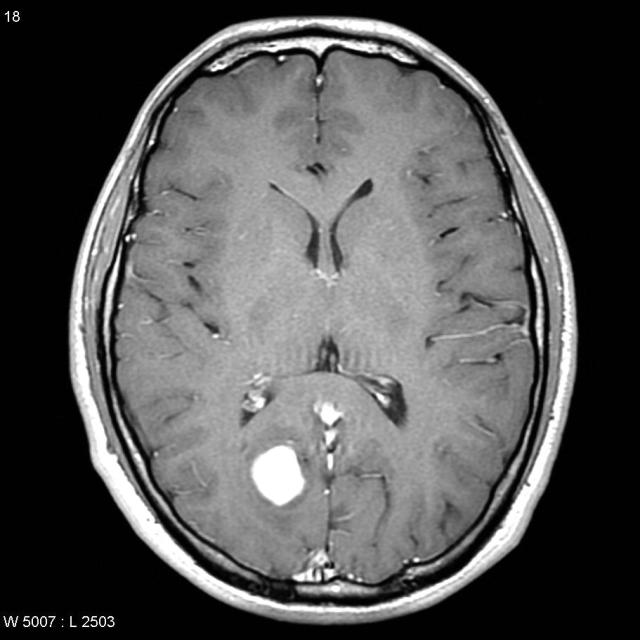Tumor-Cell: (230, 439, 314, 512)
